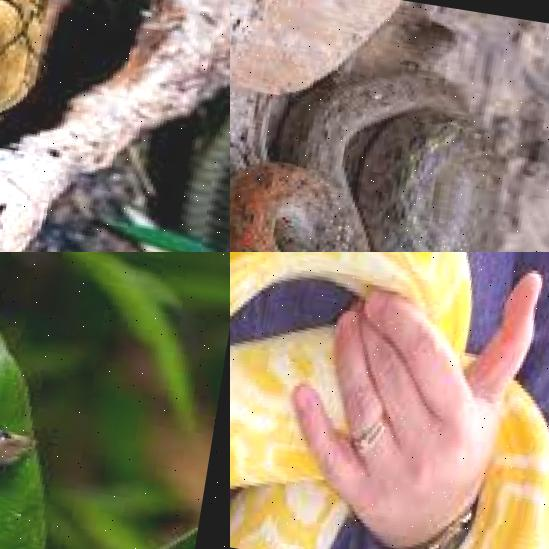snake: (230, 252, 549, 549), (230, 3, 549, 252), (0, 0, 230, 252), (0, 305, 78, 549)
